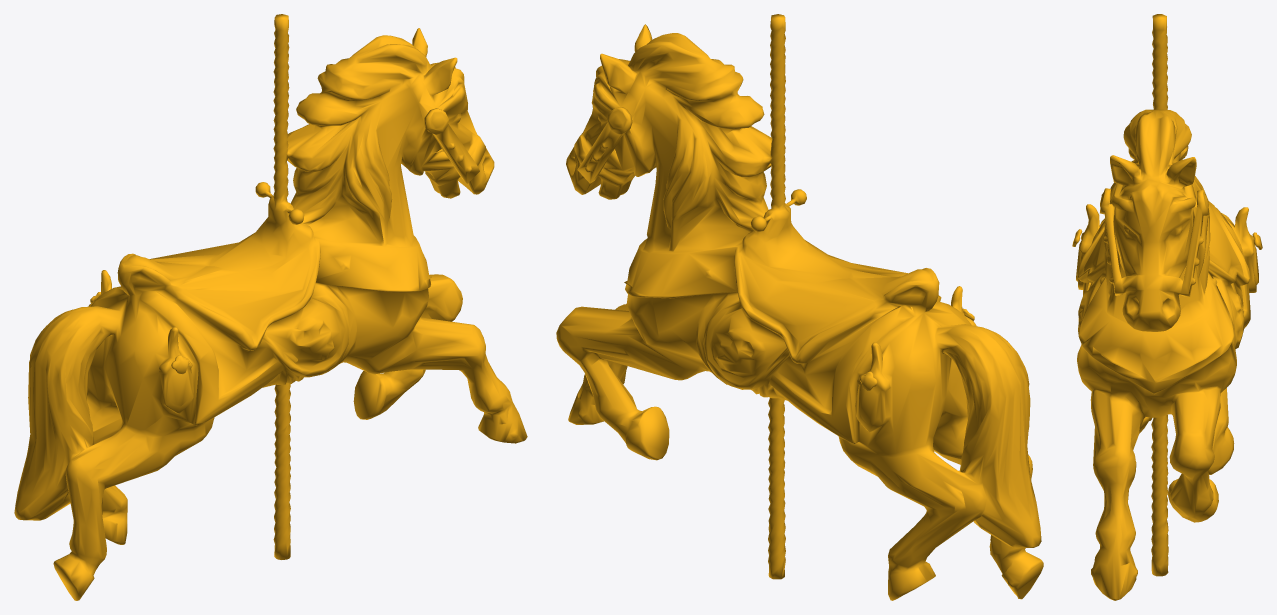
The model's file is park_horse-Y.glb.
3 views of the same model, side by side, from view 1: azimuth 30°, elevation 25°; view 2: azimuth 150°, elevation 25°; view 3: azimuth 270°, elevation 25° (orthographic). The views are drawn at different scales.
Parts seen in each view (by area): view 1: park_horse; view 2: park_horse; view 3: park_horse.
Part boxes in pixels (box(x1,y1,x2,y2)): park_horse: box(14, 14, 527, 600); park_horse: box(556, 14, 1043, 600); park_horse: box(1072, 14, 1262, 600).
Bounding box in the file's own units: 0.6146 × 0.6587 × 0.2045.
